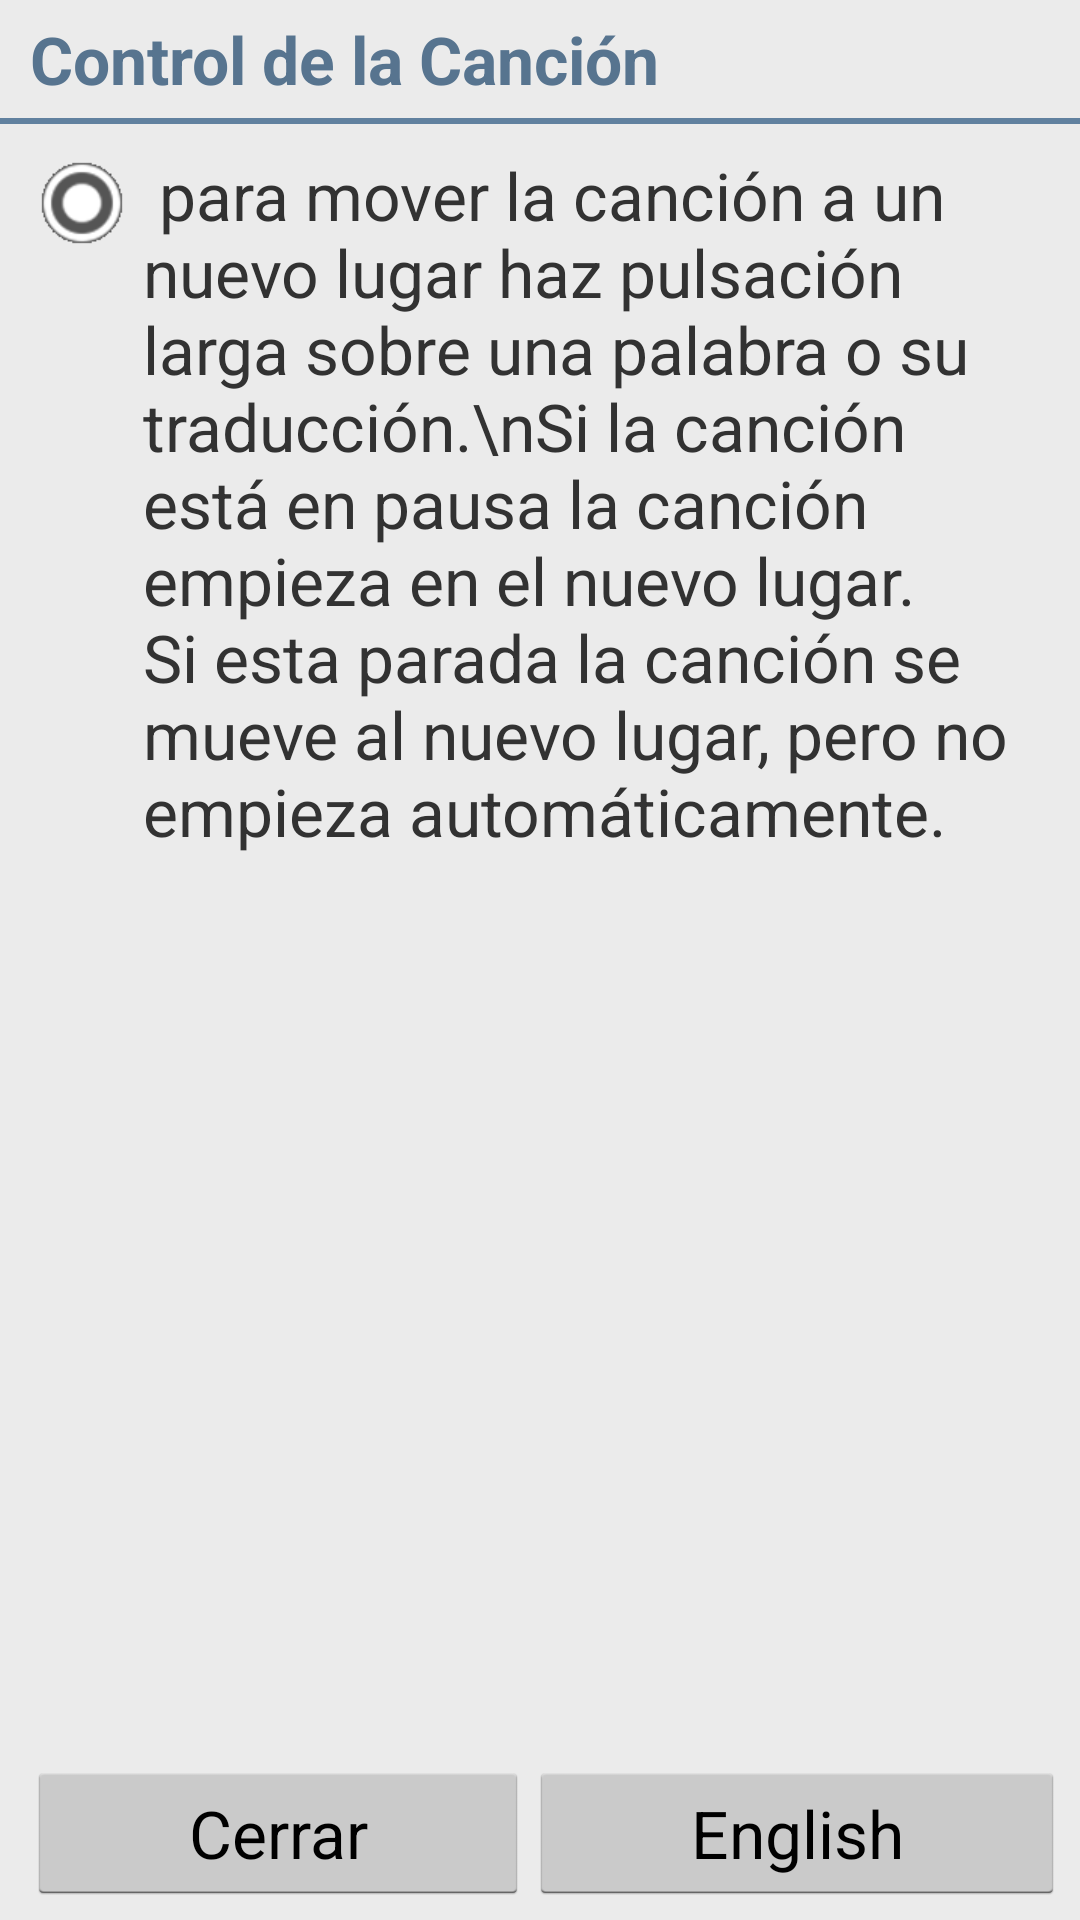

Icons on this 1080 x 1920 Android screen, each with the point to tap as (x=x, y=y):
radio long click: (x=82, y=203)
